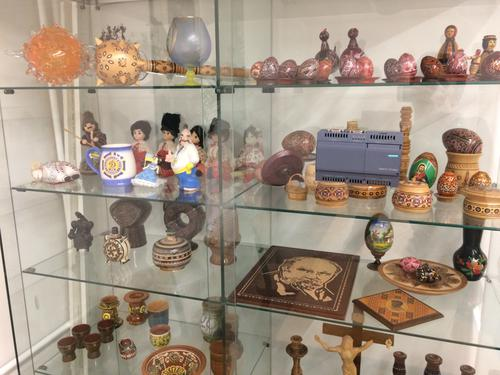iot2000: (315, 129, 405, 189)
